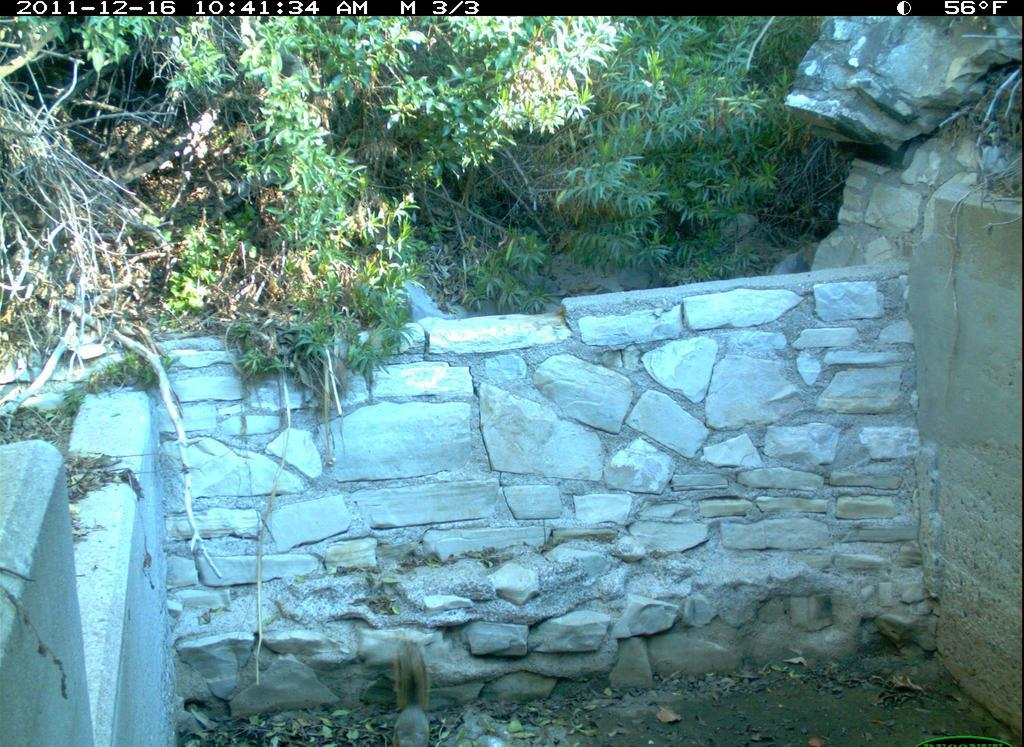squirrel: (389, 636, 439, 747)
